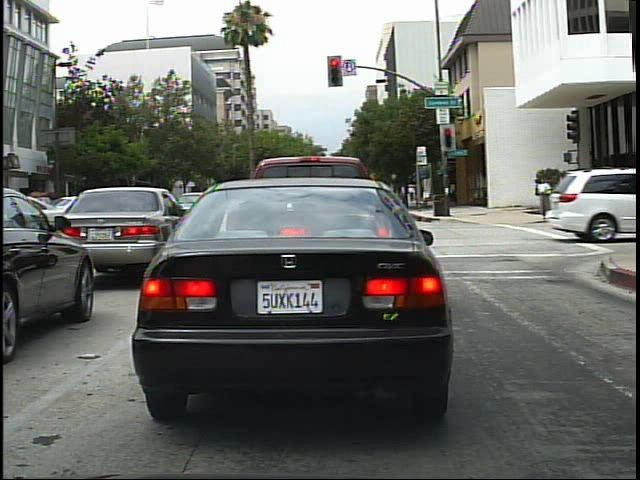person: (556, 171, 581, 222), (536, 171, 558, 221)
